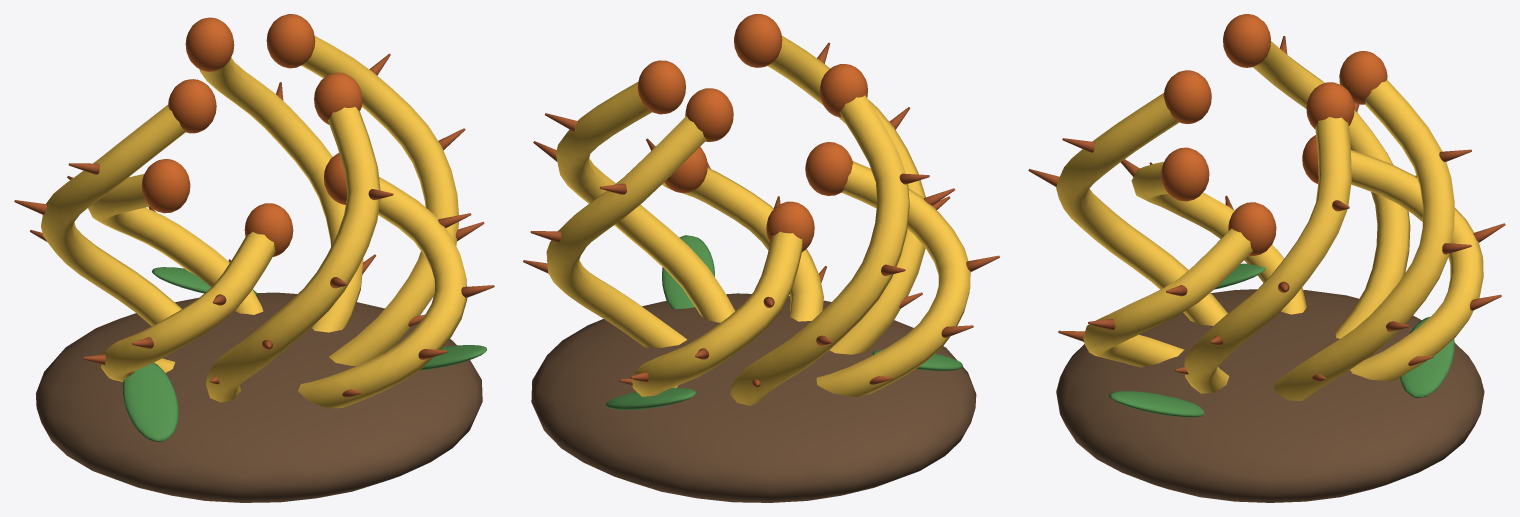
File: PricklyThicket.fbx
3 views of the same model, side by side, from view 1: azimuth 30°, elevation 25°; view 2: azimuth 150°, elevation 25°; view 3: azimuth 270°, elevation 25° (orthographic).
Parts seen in each view (by area): view 1: PricklyThicket; view 2: PricklyThicket; view 3: PricklyThicket.
Part boxes in pixels (x1,y1,x2,y2): PricklyThicket: [14, 14, 494, 502]; PricklyThicket: [523, 14, 999, 502]; PricklyThicket: [1028, 14, 1505, 502].
Size of the model in its own units: 0.8442 by 0.7734 by 0.8536.
